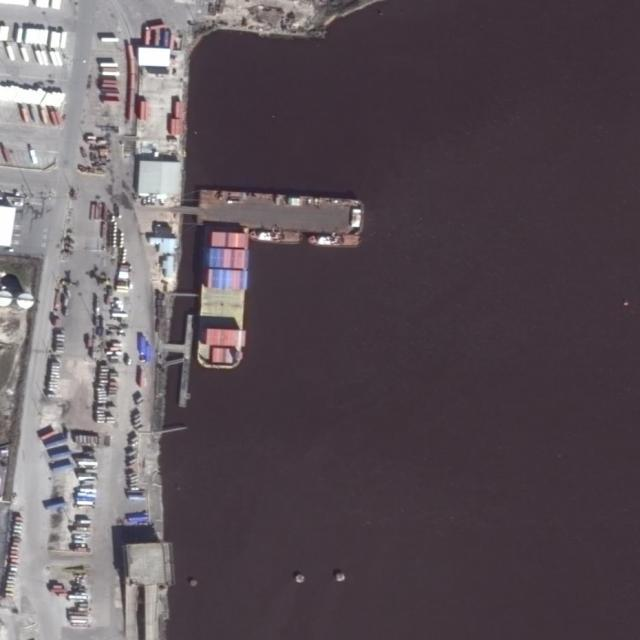Container Ship: (192, 224, 254, 371)
Dock: (179, 311, 194, 406)
